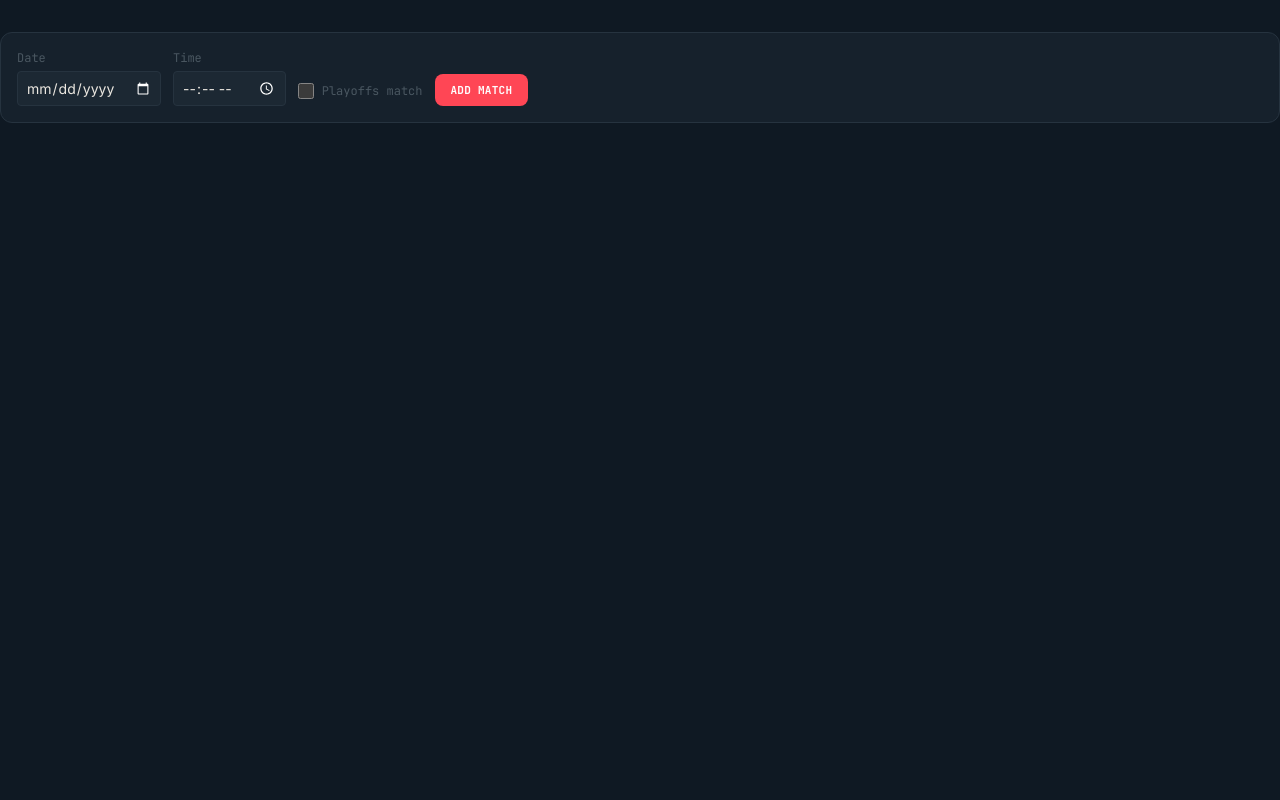
Test: CreateMatchForm › shows an error toast with the thrown message on failure
This screenshot has width=1280, height=800.
Type "2026-09-20" into the date field labelled "Date". click: [89, 88]
box: x1=17 y1=71 x2=161 y2=106
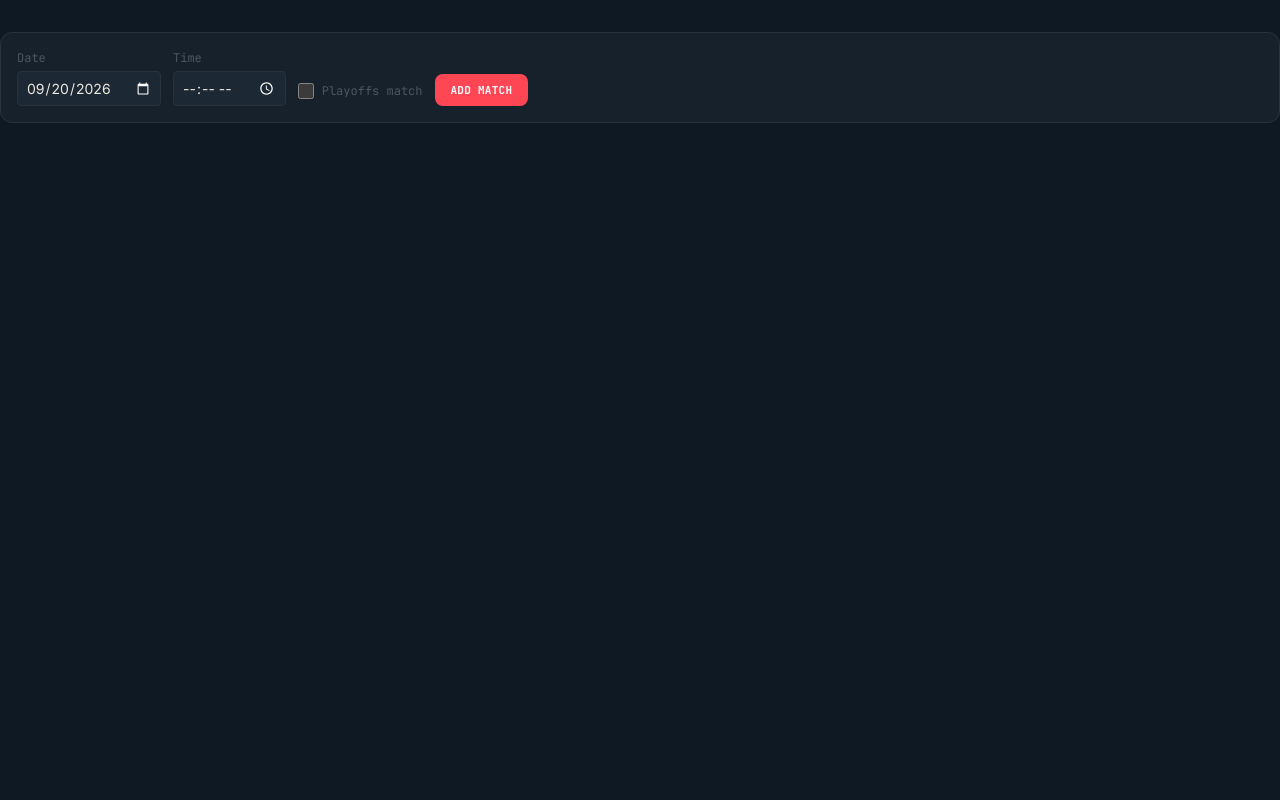
Type "19:00" into the time field labelled "Time". click: [229, 88]
box: x1=173 y1=71 x2=286 y2=106
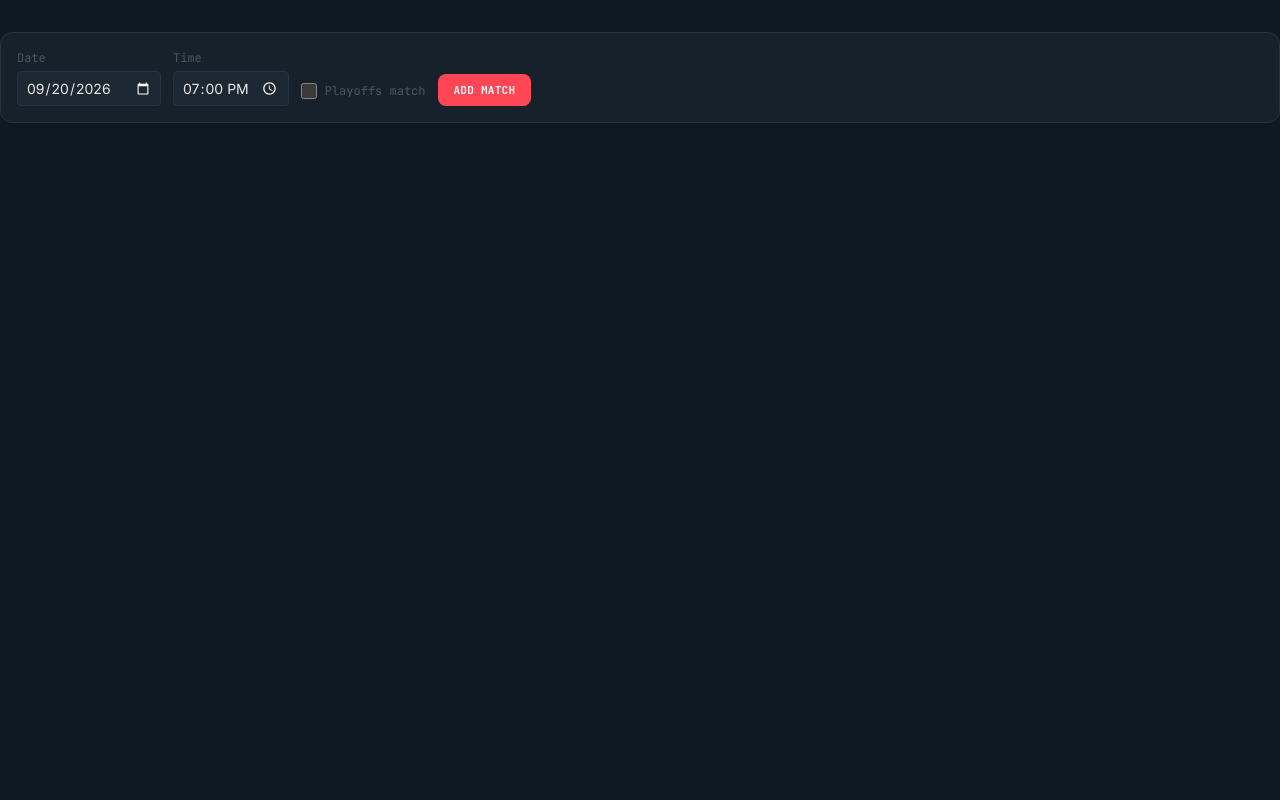
Click the button "Add match". click: [484, 90]
box: x1=438 y1=74 x2=531 y2=106
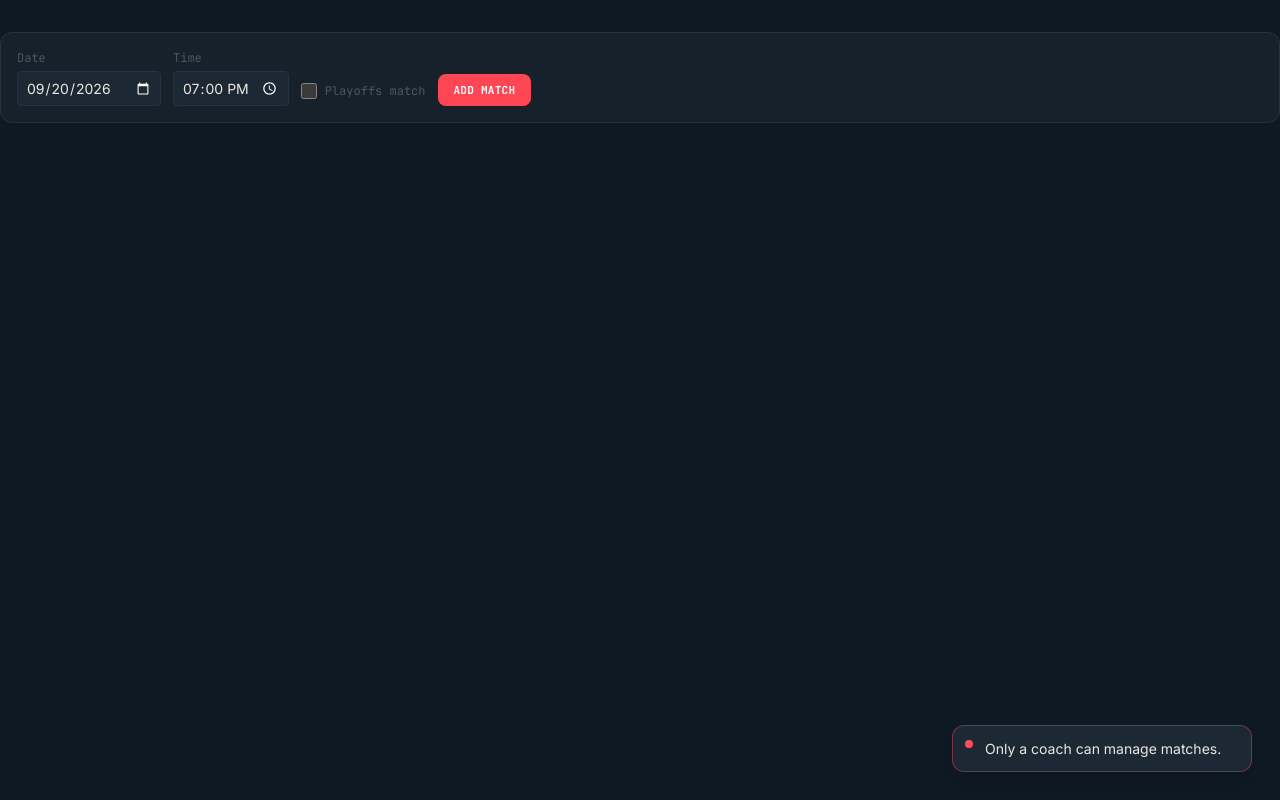
Now the text "Only a coach can manage matches." is shown, box x1=985 y1=738 x2=1221 y2=759
